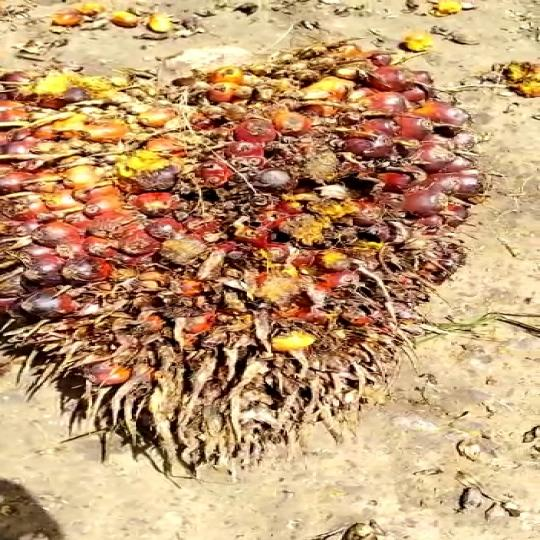masak: (0, 46, 494, 473)
